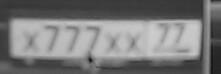license-plateSW: (8, 16, 202, 61)
